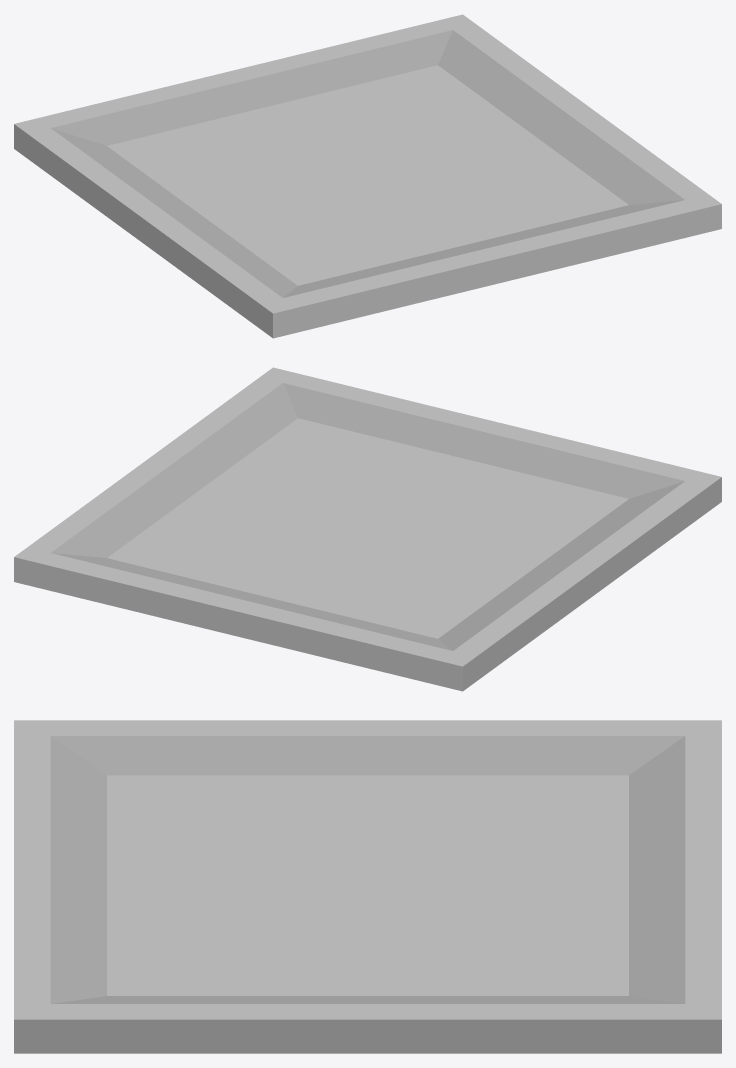
The model's file is Plate.glb.
The picture shows the model from 3 angles, top to bottom: view 1: azimuth 30°, elevation 25°; view 2: azimuth 150°, elevation 25°; view 3: azimuth 270°, elevation 25°; orthographic projection. The views are drawn at different scales.
Visible parts, largest first — view 1: SI_Prop_Plate_01; view 2: SI_Prop_Plate_01; view 3: SI_Prop_Plate_01.
Boxes of the visible parts, x1,y1,x2,y2 form: SI_Prop_Plate_01: (14, 14, 721, 338); SI_Prop_Plate_01: (14, 367, 721, 691); SI_Prop_Plate_01: (14, 720, 721, 1053).
Bounding box in the file's own units: 0.00813 × 0.000431 × 0.00813.
Materials: 1 (1 with a texture image).
